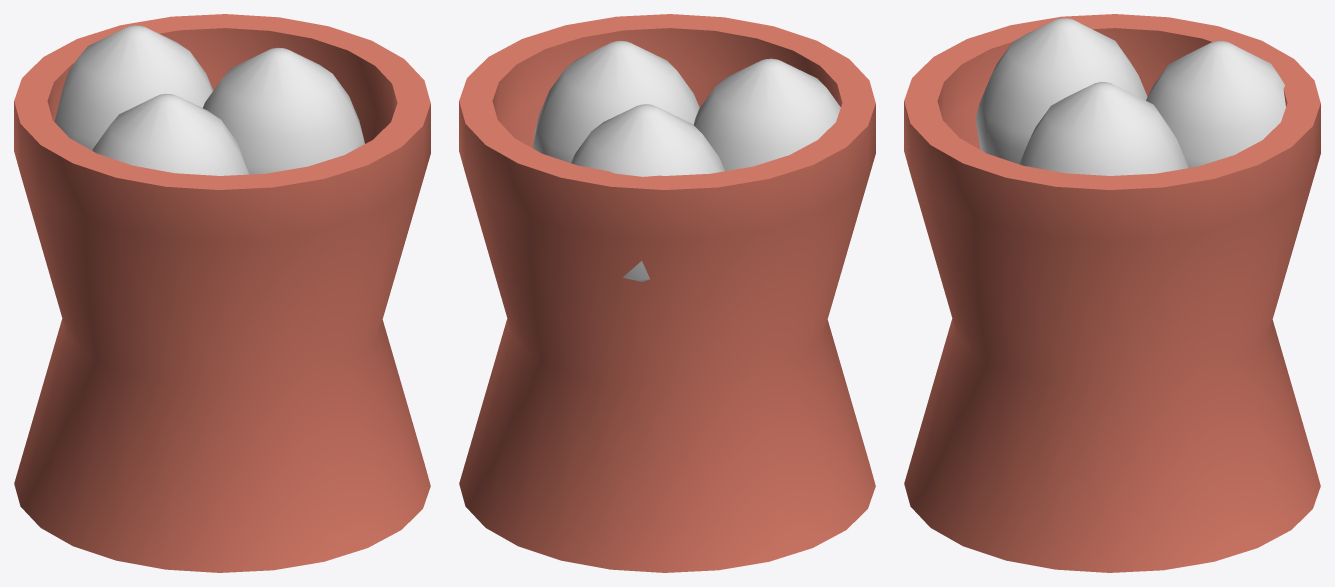
File: 4 many eggs.fbx
The picture shows the model from 3 angles, left to right: view 1: azimuth 30°, elevation 25°; view 2: azimuth 150°, elevation 25°; view 3: azimuth 270°, elevation 25°; orthographic projection.
Visible parts, largest first — view 1: 4 many eggs; view 2: 4 many eggs; view 3: 4 many eggs.
Part boxes in pixels (bbox=[...]): 4 many eggs: bbox=[14, 14, 430, 572]; 4 many eggs: bbox=[459, 14, 875, 572]; 4 many eggs: bbox=[904, 14, 1320, 572].
Bounding box in the file's own units: 9.22 × 10.37 × 9.22.
